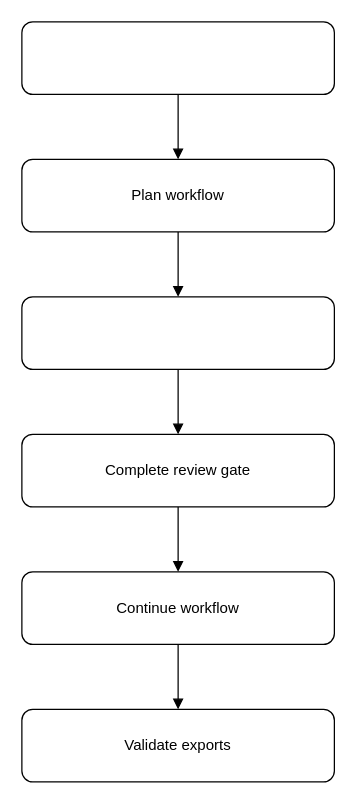
Image size: 356x804. Some labels were removed from this diagram. The centre of each missing label's shape, as x and y in pixels:
"Catalog" goes at (177,57).
"Run deterministic stages" goes at (177,332).
